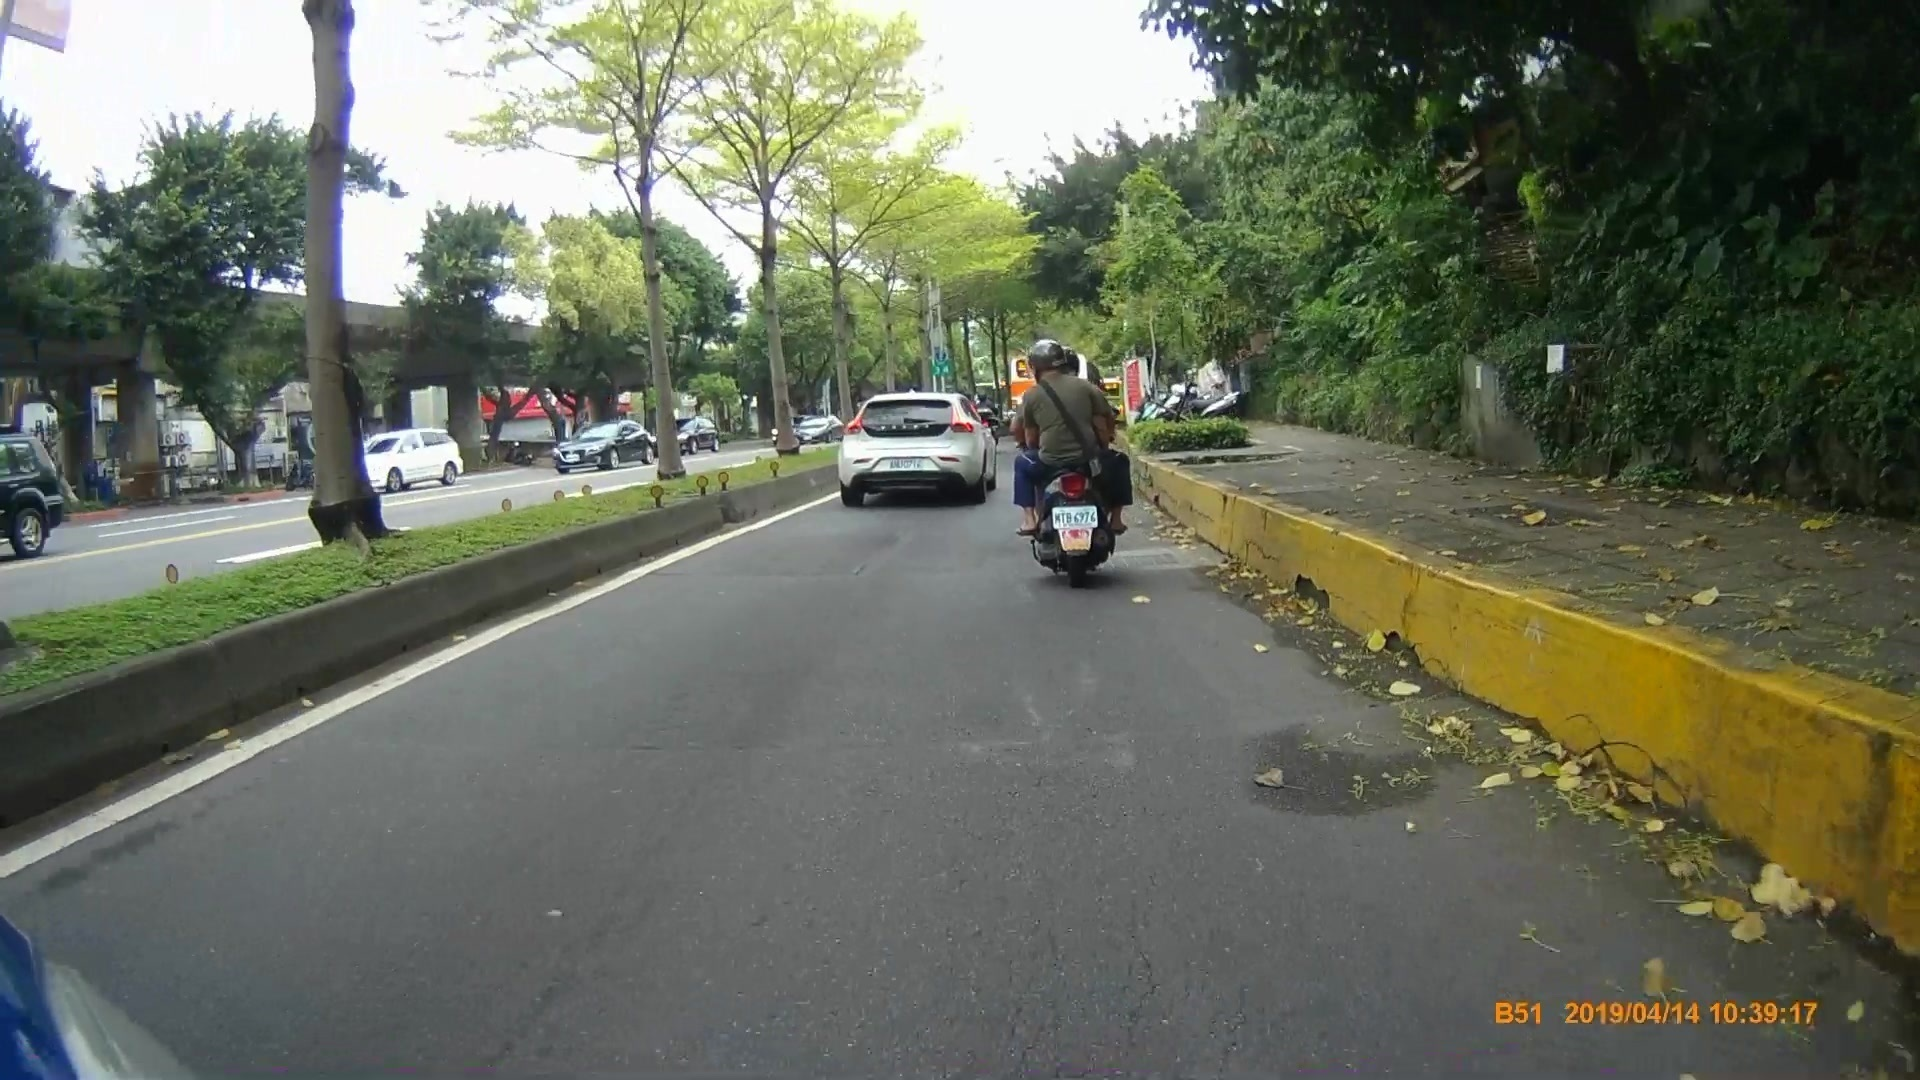License_plate: (1049, 504, 1099, 527), (878, 456, 925, 473)
